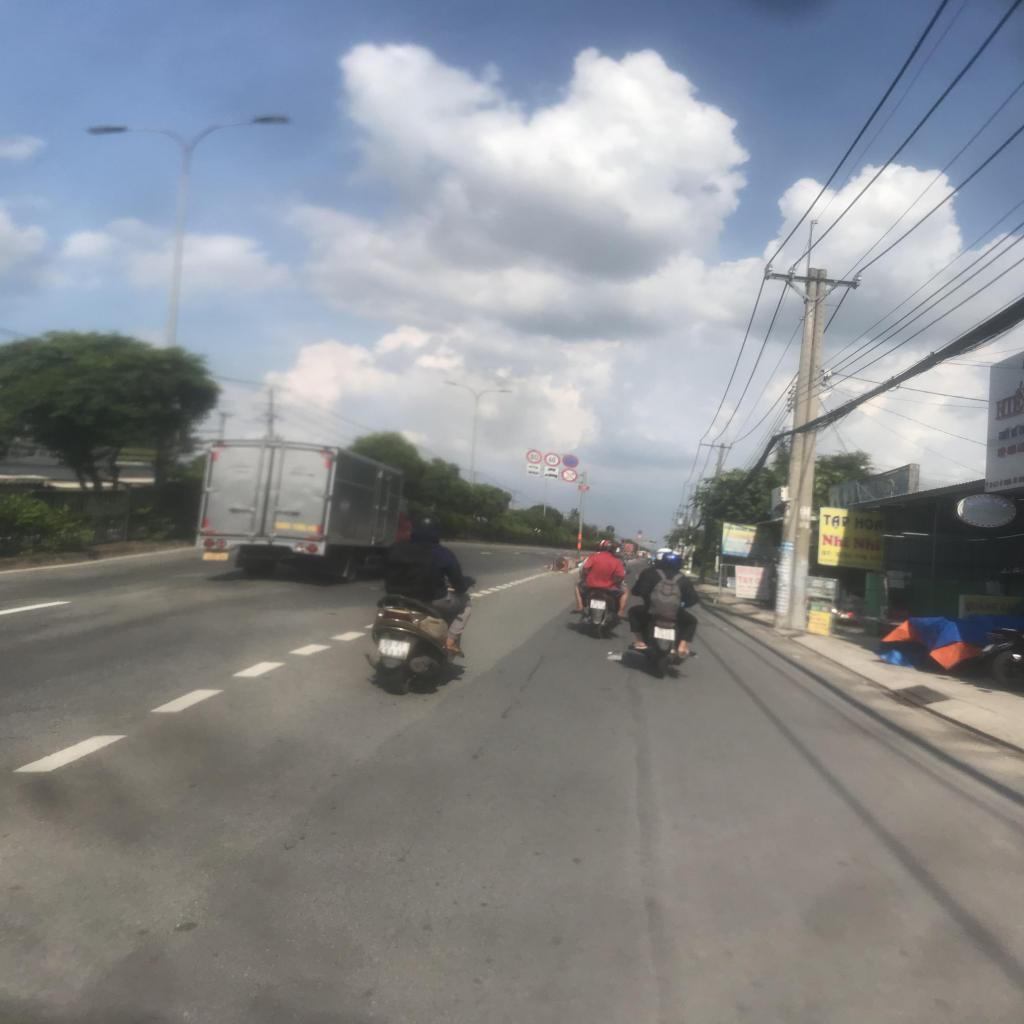cam_dung_xe_va_do_xe: (562, 454, 578, 468)
cam_xe_2_banh_va_xe_3_banh_co_dong_co: (561, 468, 578, 482)
khac: (544, 466, 560, 474), (527, 463, 541, 471), (526, 469, 540, 476), (544, 472, 558, 479)
toc_do_toi_da_60: (544, 452, 561, 466)
toc_do_toi_da_80: (526, 450, 543, 464)
